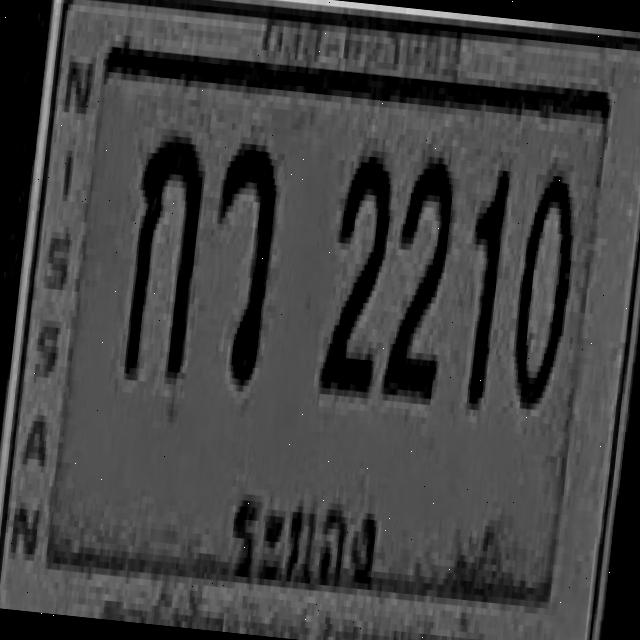0: (507, 166, 580, 412)
1: (454, 158, 511, 408)
10GorGai: (121, 127, 206, 379)
2: (380, 148, 459, 398), (318, 147, 396, 392)
46WorWaen: (200, 136, 280, 387)
Rayong: (216, 463, 394, 612)
